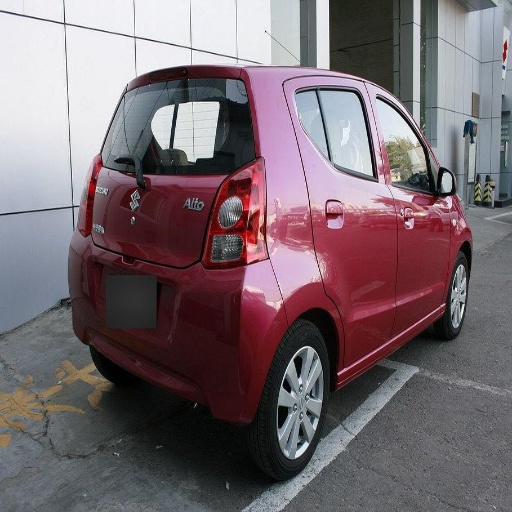back_right_door: (286, 84, 395, 360)
trunk: (93, 81, 233, 361)
